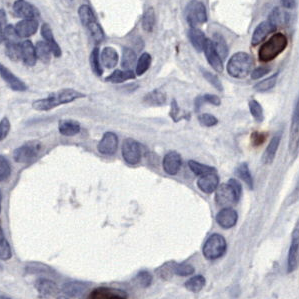Lymphocyte: (257, 31, 289, 62)
